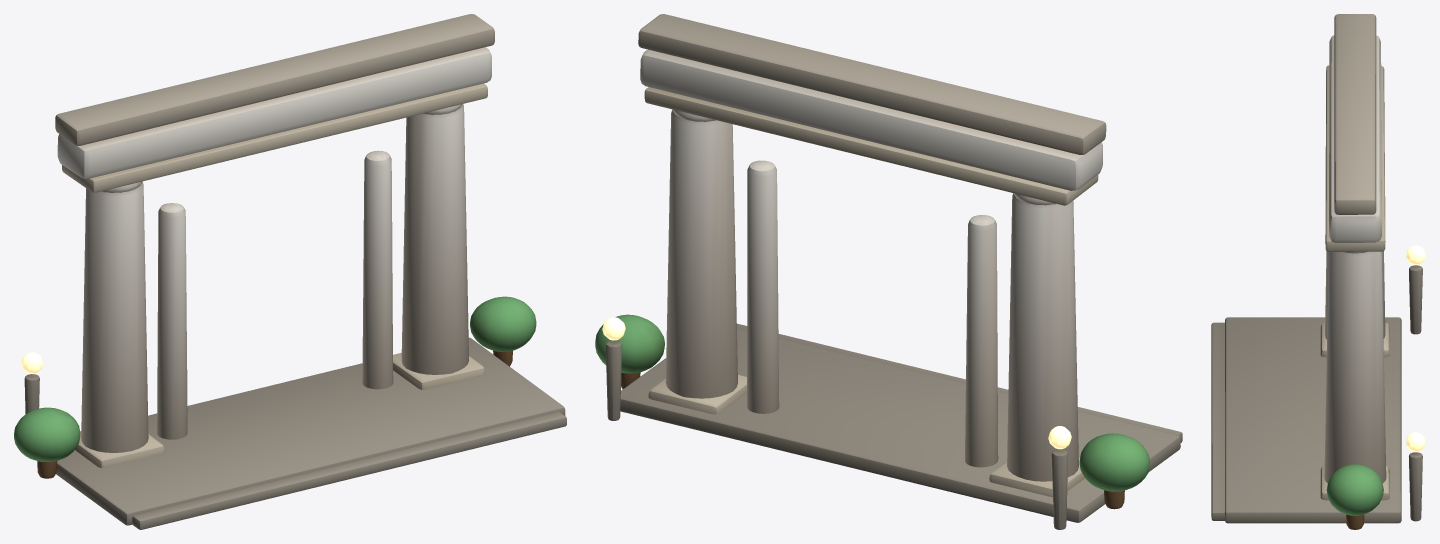
3 renders of one model, left to right at view 1: azimuth 30°, elevation 25°; view 2: azimuth 150°, elevation 25°; view 3: azimuth 270°, elevation 25°, orthographic. The views are drawn at different scales.
Visible parts, largest first — view 1: gate_cc40678b; view 2: gate_cc40678b; view 3: gate_cc40678b.
Part boxes in pixels (box(x1,y1,x2,y2)): gate_cc40678b: box(14, 14, 566, 529); gate_cc40678b: box(595, 14, 1182, 529); gate_cc40678b: box(1211, 14, 1425, 529).
Size of the model in its own units: 6.45 by 4.21 by 2.54.
